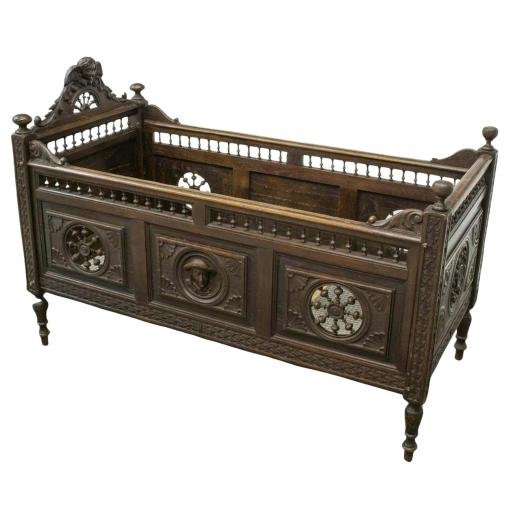crib: (13, 58, 497, 460)
